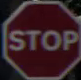Stop: (1, 1, 78, 74)
